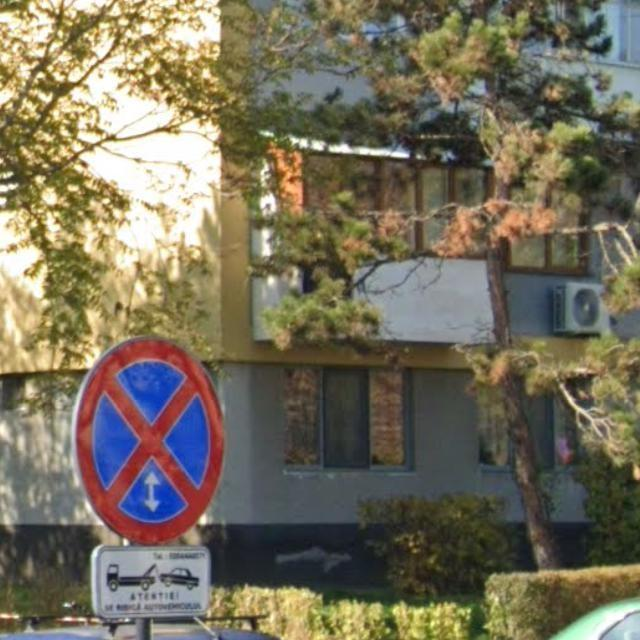forb_waiting: (74, 336, 224, 543)
